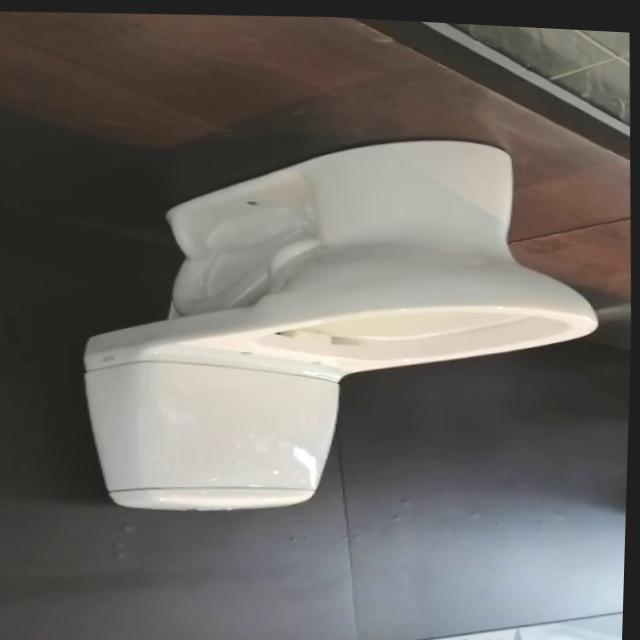toilet: (74, 115, 612, 531)
